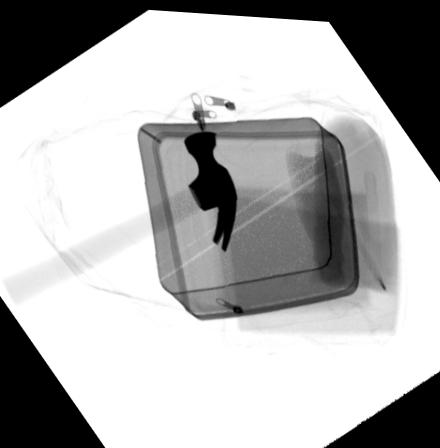Hammer: (0, 126, 240, 306)
